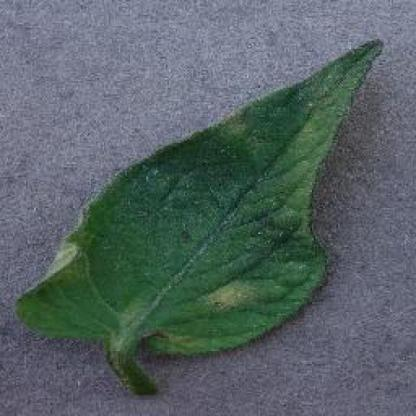Tomato_Leaf_Mold: (20, 37, 375, 352)
